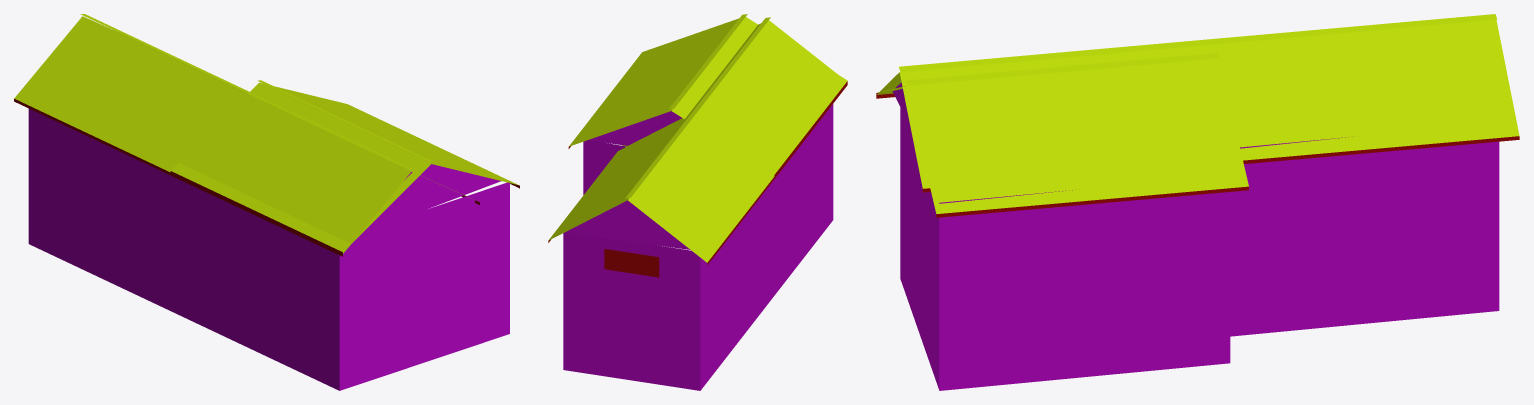
The model's file is scl_62.glb.
The picture shows the model from 3 angles, left to right: view 1: azimuth 30°, elevation 25°; view 2: azimuth 150°, elevation 25°; view 3: azimuth 270°, elevation 25°; orthographic projection. The views are drawn at different scales.
Parts seen in each view (by area): view 1: scl_62; view 2: scl_62; view 3: scl_62.
Boxes of the visible parts, left/top/right/bottom form: scl_62: left=14, top=14, right=519, bottom=390; scl_62: left=548, top=14, right=847, bottom=390; scl_62: left=876, top=14, right=1519, bottom=390.
Size of the model in its own units: 12.13 by 8.24 by 18.95.
